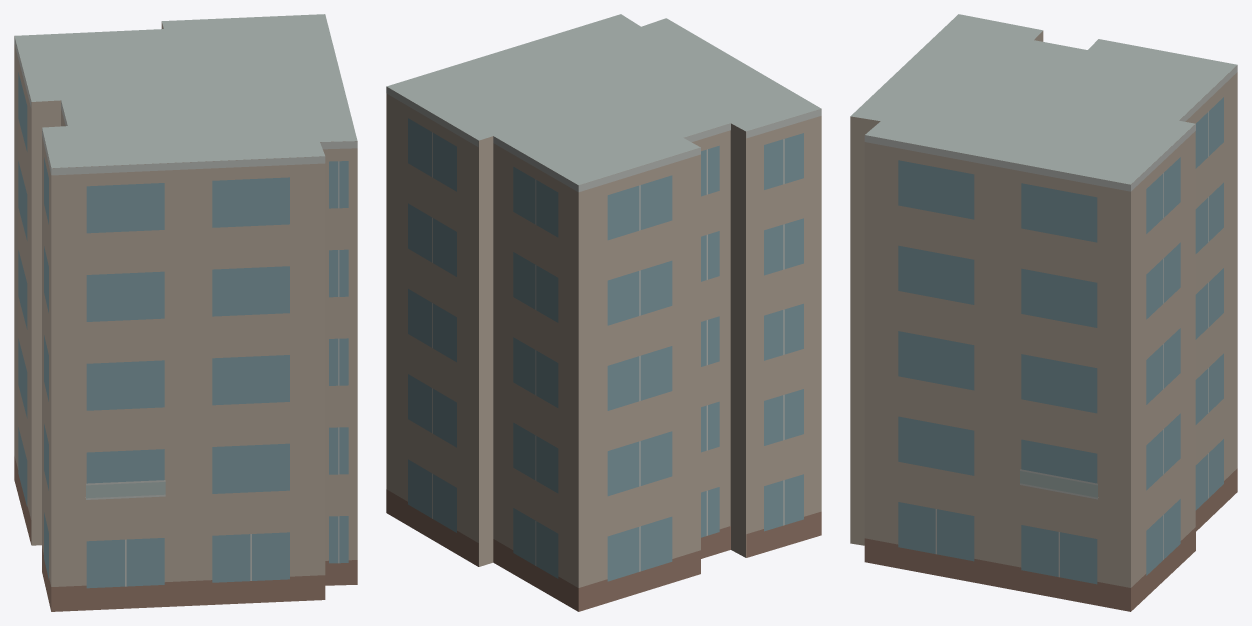
The model's file is survey-upis-32923687.glb.
3 views of the same model, side by side, from view 1: azimuth 30°, elevation 25°; view 2: azimuth 150°, elevation 25°; view 3: azimuth 270°, elevation 25° (orthographic). The views are drawn at different scales.
Visible parts, largest first — view 1: survey-upis-32923687.tmp; view 2: survey-upis-32923687.tmp; view 3: survey-upis-32923687.tmp.
Boxes of the visible parts, box(x1,y1,x2,y2) form: survey-upis-32923687.tmp: box(14, 14, 357, 611); survey-upis-32923687.tmp: box(386, 14, 821, 611); survey-upis-32923687.tmp: box(850, 14, 1237, 611).
Size of the model in its own units: 12.75 by 14.86 by 12.22.
